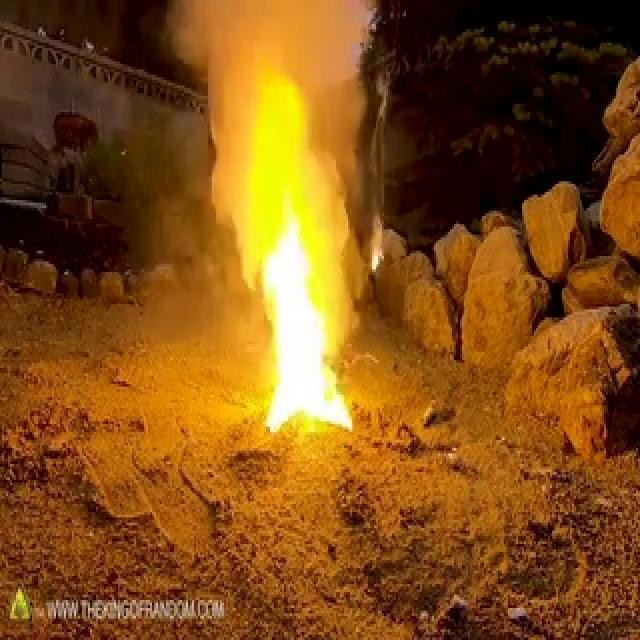Fire: (238, 198, 361, 430)
Smoke: (160, 0, 392, 192)
